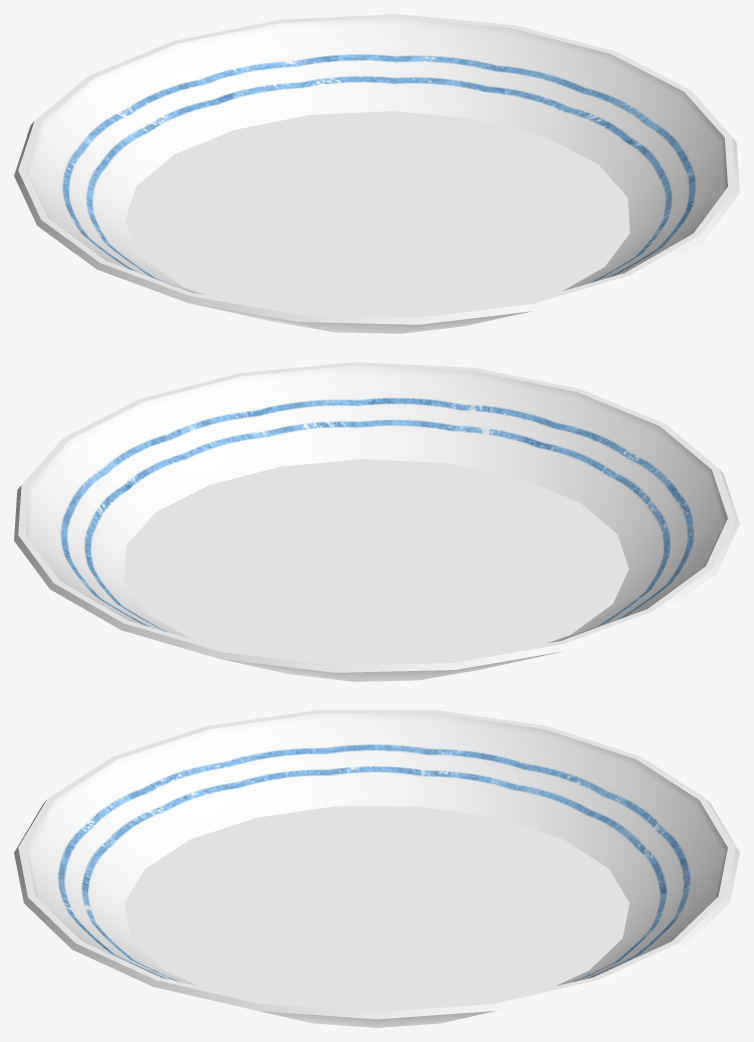
File: Jagung1.fbx
The picture shows the model from 3 angles, top to bottom: view 1: azimuth 30°, elevation 25°; view 2: azimuth 150°, elevation 25°; view 3: azimuth 270°, elevation 25°; orthographic projection.
Visible parts, largest first — view 1: Prato.003; view 2: Prato.003; view 3: Prato.003.
Boxes of the visible parts, bbox=[...] form: Prato.003: bbox=[14, 14, 739, 333]; Prato.003: bbox=[14, 362, 739, 681]; Prato.003: bbox=[14, 710, 739, 1027].
Size of the model in its own units: 254 by 32.41 by 255.
Materials: 1 (1 with a texture image).
